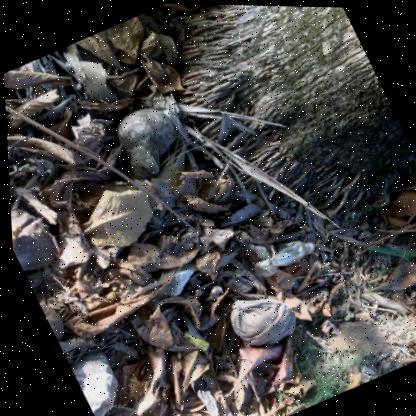Plastic: (250, 239, 310, 275)
Waste: (164, 267, 191, 296), (302, 241, 310, 252)
